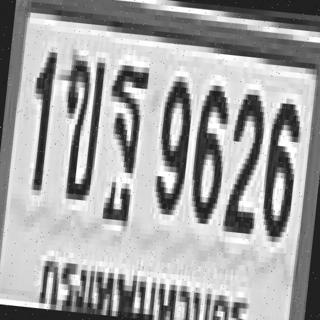A02: (55, 46, 105, 193)
A16: (98, 56, 148, 203)
N01: (24, 45, 56, 185)
N02: (223, 85, 266, 226)
N06: (186, 78, 230, 220), (258, 97, 300, 238)
N09: (152, 70, 194, 210)
